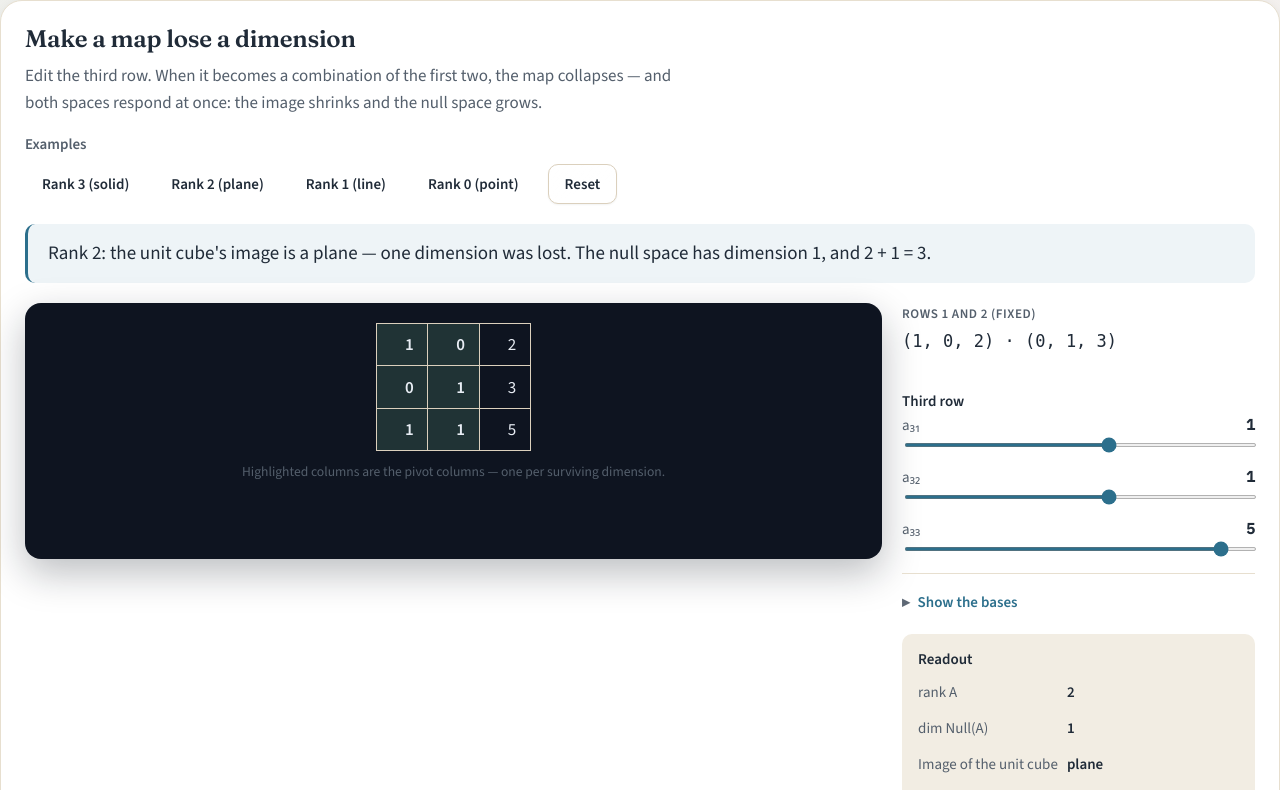
Test: SubspacesRankExplorer › reset returns to the rank-2 example
Step 1. Click the button "Rank 0 (point)" → (473, 184), box [411,164,536,204]
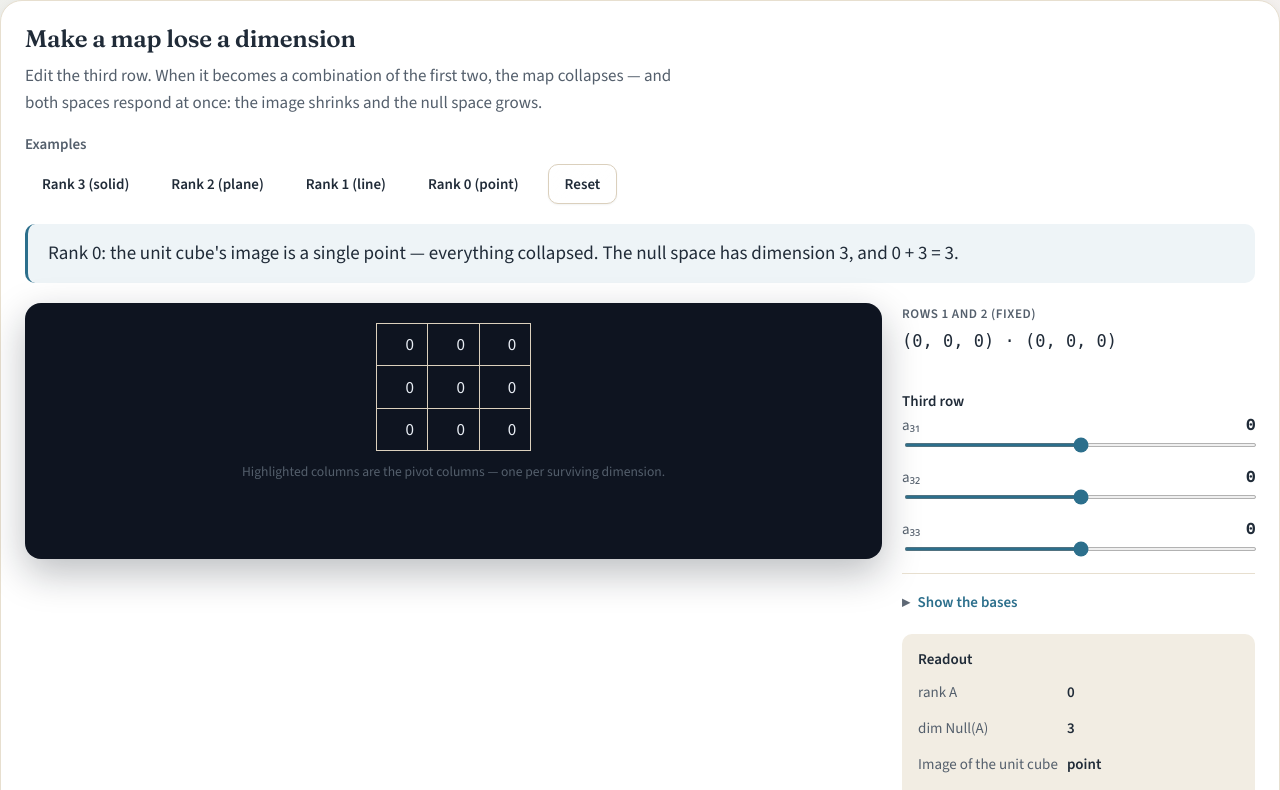
Step 2. Click the button "Reset" → (582, 184), box [548,164,617,204]
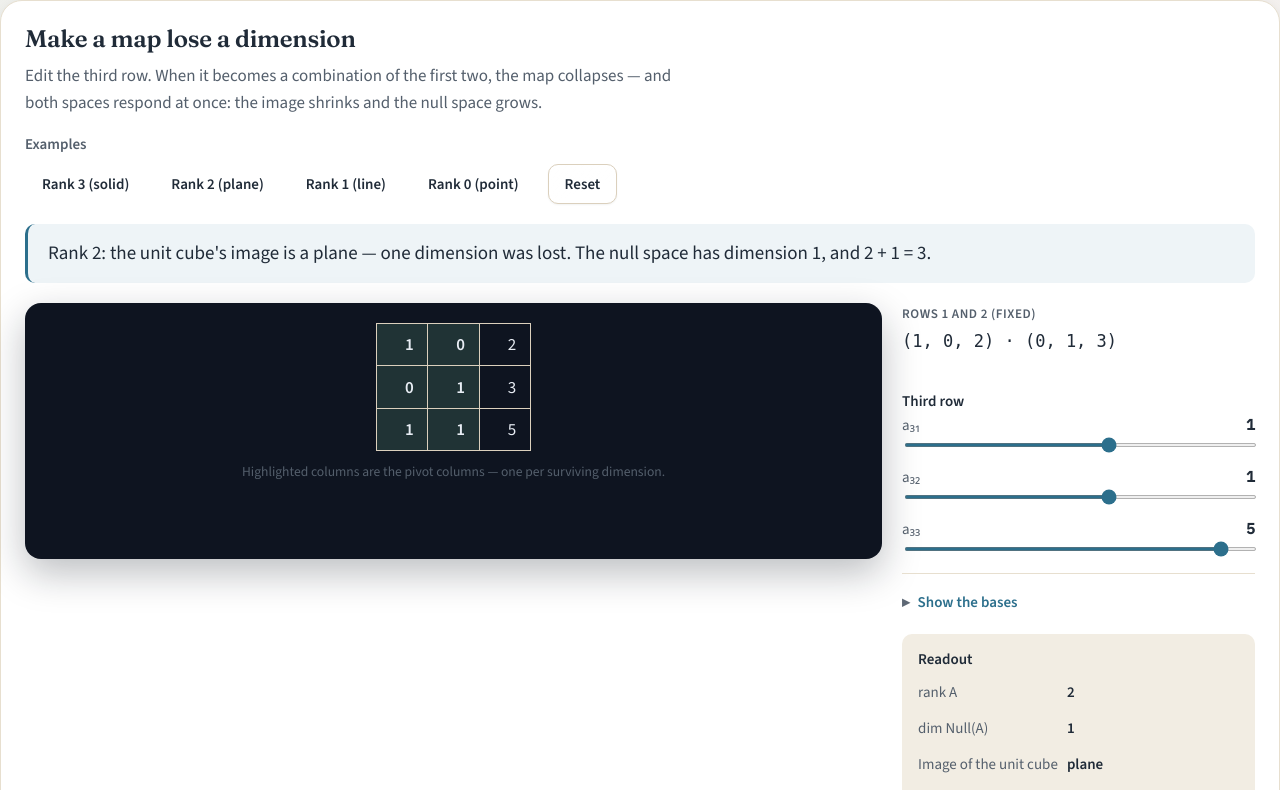
Check: the text with test id "subspace-rank" reads "2", box [1067,682,1075,702]
